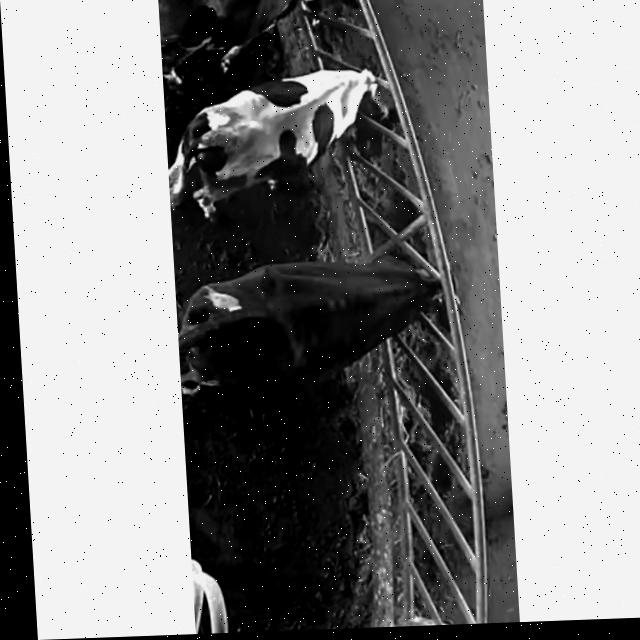eat: (315, 237, 492, 363), (279, 58, 426, 166), (246, 0, 388, 23)
